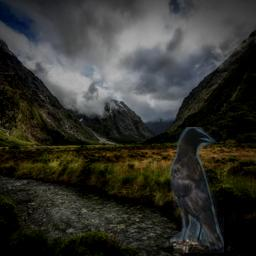Crow: (170, 127, 224, 253)
